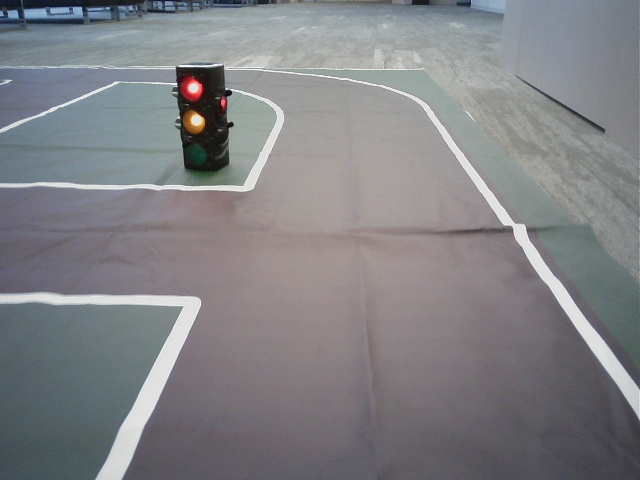red: (178, 69, 211, 165)
